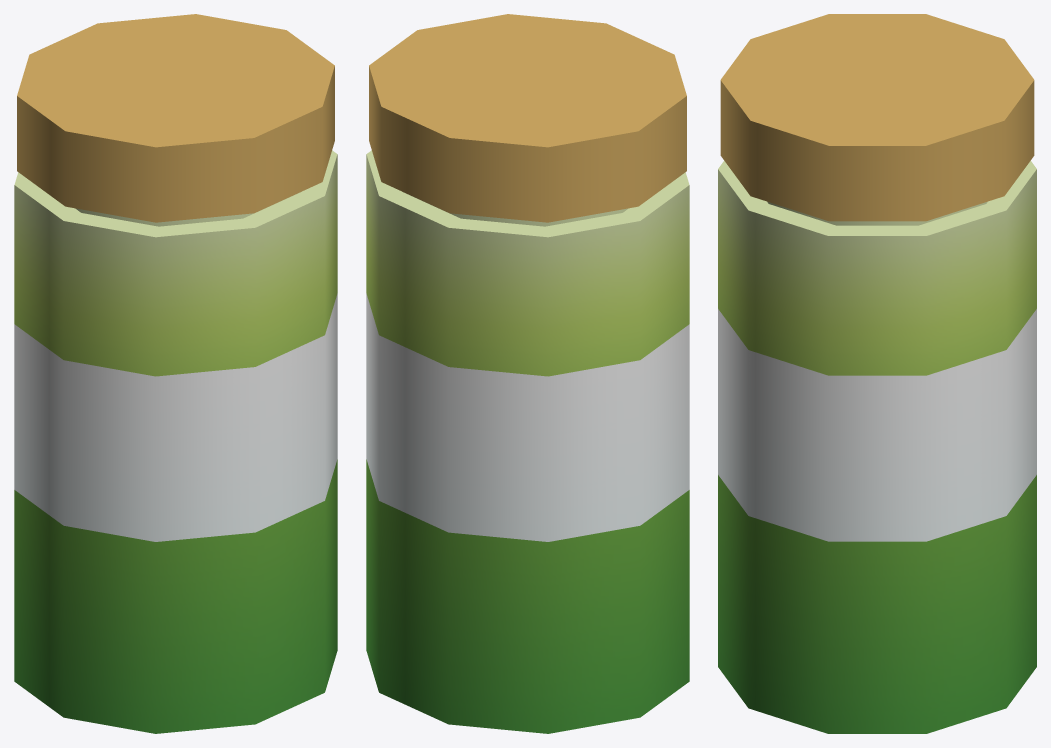
Rendered from flask_green.fbx.
The picture shows the model from 3 angles, left to right: view 1: azimuth 30°, elevation 25°; view 2: azimuth 150°, elevation 25°; view 3: azimuth 270°, elevation 25°; orthographic projection.
Visible parts, largest first — view 1: flask_green; view 2: flask_green; view 3: flask_green.
Part boxes in pixels (bbox=[...]): flask_green: bbox=[14, 14, 337, 733]; flask_green: bbox=[366, 14, 689, 733]; flask_green: bbox=[718, 14, 1036, 733].
Bounding box in the file's own units: 133 × 272 × 134.
